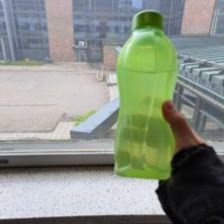bottle: (113, 9, 178, 185)
